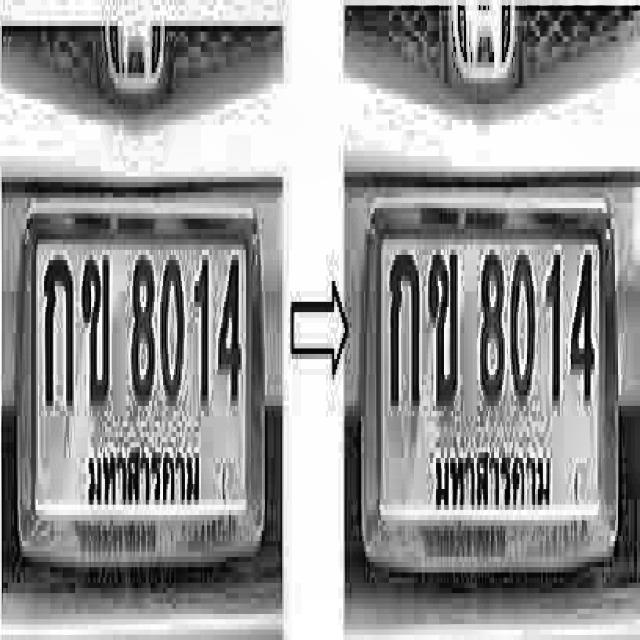license-plate: (362, 186, 620, 574), (18, 196, 268, 568)
